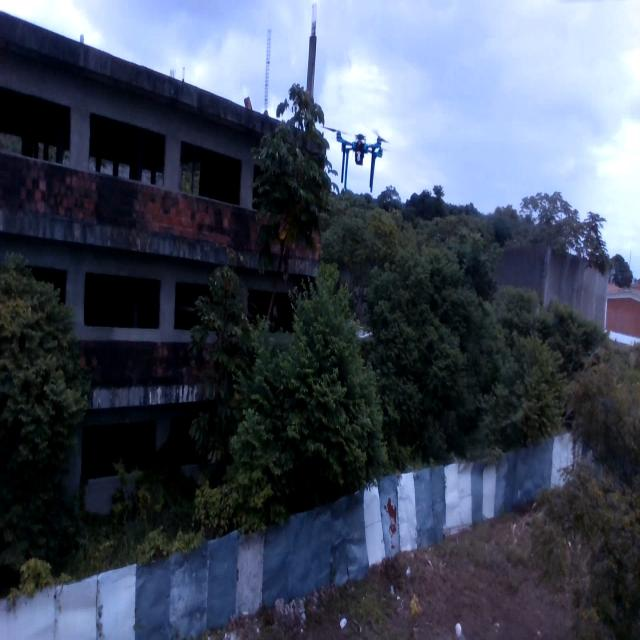-uav-: (317, 114, 393, 200)
